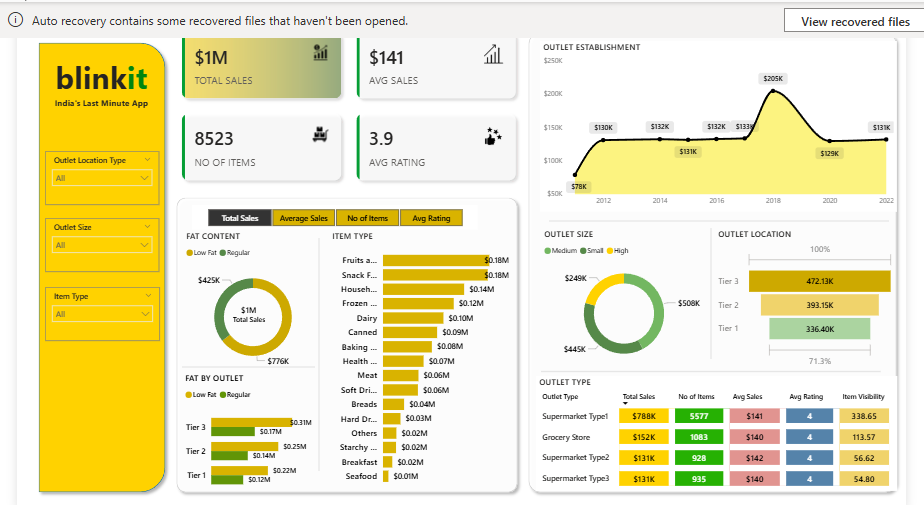

This screenshot's page, from the dashboard's own definition file:
{"tool":"powerbi","page":{"name":"Page 1","canvas":[1400,800],"ordinal":0},"visuals":[{"type":"shape","box":[25.2,55.1,217.3,726],"z":0},{"type":"textbox","box":[40.9,80.3,184.3,97.6],"z":1000},{"type":"cardVisual","fields":{"Data":["BlinkIT Grocery Data.Total Sales","BlinkIT Grocery Data.Average Sales","BlinkIT Grocery Data.No of Items","BlinkIT Grocery Data.Avg Rating"]},"box":[242.5,29.9,560.6,269.3],"z":2000},{"type":"shape","box":[242.5,299.2,554.3,481.9],"z":3000},{"type":"donutChart","title":"FAT CONTENT","fields":{"Y":["BlinkIT Grocery Data.Total Sales"],"Category":["BlinkIT Grocery Data.Item Fat Content"]},"box":[261.4,359.1,220.5,230],"z":4000},{"type":"slicer","fields":{"Values":["Metrics.Metrics"]},"box":[275.6,319.7,450.4,39.4],"z":5000},{"type":"cardVisual","fields":{"Data":["BlinkIT Grocery Data.Total Sales"]},"box":[300.8,455.1,129.1,72.4],"z":6000},{"type":"clusteredBarChart","title":"FAT BY OUTLET","fields":{"Y":["BlinkIT Grocery Data.Total Sales"],"Category":["BlinkIT Grocery Data.Outlet Location Type"],"Series":["BlinkIT Grocery Data.Item Fat Content"]},"box":[259.8,582.7,209.4,198.4],"z":7000},{"type":"shape","box":[259.8,568.5,209.4,12.6],"z":8000},{"type":"shape","box":[469.3,371.7,12.6,366.9],"z":9000},{"type":"barChart","title":"ITEM TYPE","fields":{"Y":["BlinkIT Grocery Data.Total Sales"],"Category":["BlinkIT Grocery Data.Item Type"]},"box":[491.3,359.1,288.2,411],"z":10000},{"type":"shape","box":[796.9,39.4,596.9,741.7],"z":11000},{"type":"lineChart","title":"OUTLET ESTABLISHMENT","fields":{"Y":["BlinkIT Grocery Data.Total Sales"],"Category":["BlinkIT Grocery Data.Outlet Establishment Year"]},"box":[823.6,61.4,562.2,269.3],"z":12000},{"type":"shape","box":[837.8,330.7,535.4,28.3],"z":13000},{"type":"donutChart","title":"OUTLET SIZE","fields":{"Y":["BlinkIT Grocery Data.Total Sales"],"Category":["BlinkIT Grocery Data.Outlet Size"]},"box":[825.2,355.9,261.4,225.2],"z":14000},{"type":"shape","box":[1086.6,355.9,12.6,206.3],"z":15000},{"type":"funnel","title":"OUTLET LOCATION","fields":{"Category":["BlinkIT Grocery Data.Outlet Location Type"],"Y":["Sum(BlinkIT Grocery Data.Sales)"]},"box":[1099.2,355.9,286.6,225.2],"z":16000},{"type":"shape","box":[825.2,574.8,535.4,14.2],"z":17000},{"type":"pivotTable","title":"OUTLET TYPE","fields":{"Rows":["BlinkIT Grocery Data.Outlet Type"],"Values":["BlinkIT Grocery Data.Total Sales","BlinkIT Grocery Data.No of Items","BlinkIT Grocery Data.Average Sales","BlinkIT Grocery Data.Avg Rating","Sum(BlinkIT Grocery Data.Item Visibility)"]},"box":[817.3,589,568.5,181.1],"z":18000},{"type":"slicer","fields":{"Values":["BlinkIT Grocery Data.Outlet Location Type"]},"box":[44.1,234.6,179.5,85],"z":19000},{"type":"slicer","fields":{"Values":["BlinkIT Grocery Data.Outlet Size"]},"box":[44.1,340.2,179.5,85],"z":20000},{"type":"slicer","fields":{"Values":["BlinkIT Grocery Data.Item Type"]},"box":[44.1,448.8,181.1,85],"z":21000}]}

Visuals, with their boxes on the page's 1400x800 design canvas (x1, y1, x2, y2). These are canvas units, not pixel positions in the 924x505 screenshot, which may show the page scaled, cropped or inside an application window:
shape: (left=25, top=55, right=242, bottom=781)
textbox: (left=41, top=80, right=225, bottom=178)
cardVisual - BlinkIT Grocery Data.Total Sales x BlinkIT Grocery Data.Average Sales: (left=242, top=30, right=803, bottom=299)
shape: (left=242, top=299, right=797, bottom=781)
"FAT CONTENT" donutChart: (left=261, top=359, right=482, bottom=589)
slicer - Metrics.Metrics: (left=276, top=320, right=726, bottom=359)
cardVisual - BlinkIT Grocery Data.Total Sales: (left=301, top=455, right=430, bottom=528)
"FAT BY OUTLET" clusteredBarChart: (left=260, top=583, right=469, bottom=781)
shape: (left=260, top=568, right=469, bottom=581)
shape: (left=469, top=372, right=482, bottom=739)
"ITEM TYPE" barChart: (left=491, top=359, right=780, bottom=770)
shape: (left=797, top=39, right=1394, bottom=781)
"OUTLET ESTABLISHMENT" lineChart: (left=824, top=61, right=1386, bottom=331)
shape: (left=838, top=331, right=1373, bottom=359)
"OUTLET SIZE" donutChart: (left=825, top=356, right=1087, bottom=581)
shape: (left=1087, top=356, right=1099, bottom=562)
"OUTLET LOCATION" funnel: (left=1099, top=356, right=1386, bottom=581)
shape: (left=825, top=575, right=1361, bottom=589)
"OUTLET TYPE" pivotTable: (left=817, top=589, right=1386, bottom=770)
slicer - BlinkIT Grocery Data.Outlet Location Type: (left=44, top=235, right=224, bottom=320)
slicer - BlinkIT Grocery Data.Outlet Size: (left=44, top=340, right=224, bottom=425)
slicer - BlinkIT Grocery Data.Item Type: (left=44, top=449, right=225, bottom=534)
